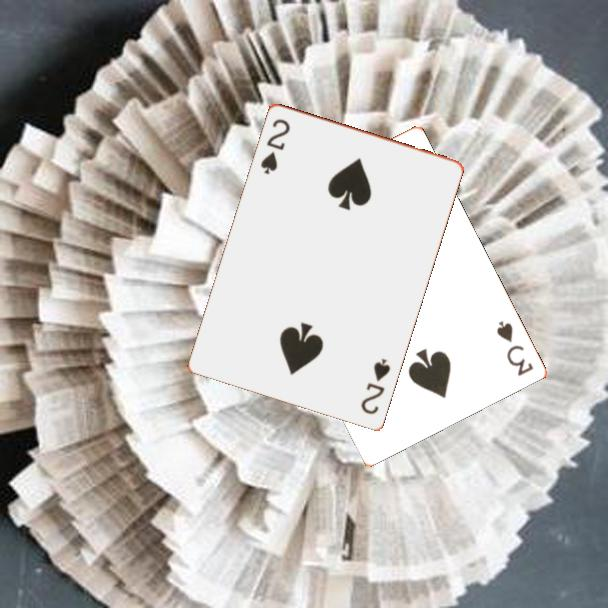s02: (257, 115, 293, 177), (357, 355, 393, 417)
s03: (492, 317, 536, 379)
